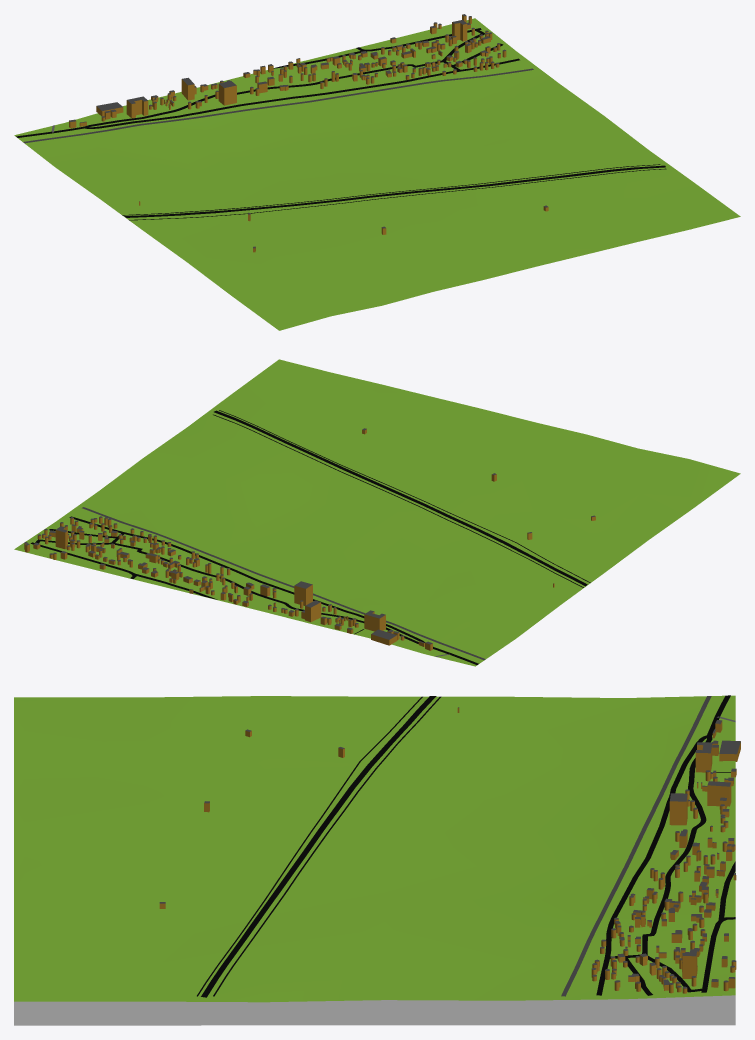
Rendered from tile_11_02.glb.
3 views of the same model, one above another, from view 1: azimuth 30°, elevation 25°; view 2: azimuth 150°, elevation 25°; view 3: azimuth 270°, elevation 25° (orthographic). The views are drawn at different scales.
Visible parts, largest first — view 1: Terrain_11_02, Ub_small.osm_buildings_11_02, Ub_small.osm_roads_residential_11_02, Ub_small.osm_roads_secondary_11_02, Ub_small.osm_railways_11_02, Ub_small.osm_paths_cycleway_11_02, Ub_small.osm_paths_footway_11_02; view 2: Terrain_11_02, Ub_small.osm_buildings_11_02, Ub_small.osm_roads_residential_11_02, Ub_small.osm_roads_secondary_11_02, Ub_small.osm_railways_11_02, Ub_small.osm_paths_cycleway_11_02, Ub_small.osm_paths_footway_11_02; view 3: Terrain_11_02, Ub_small.osm_buildings_11_02, Ub_small.osm_roads_residential_11_02, Ub_small.osm_roads_secondary_11_02, Ub_small.osm_railways_11_02, Ub_small.osm_paths_cycleway_11_02, Ub_small.osm_paths_footway_11_02.
Part boxes in pixels (x1=…): Terrain_11_02: x1=14, y1=18, x2=740, y2=330; Ub_small.osm_buildings_11_02: x1=69, y1=14, x2=548, y2=252; Ub_small.osm_roads_residential_11_02: x1=16, y1=28, x2=519, y2=137; Ub_small.osm_roads_secondary_11_02: x1=124, y1=165, x2=665, y2=217; Ub_small.osm_railways_11_02: x1=23, y1=68, x2=533, y2=143; Ub_small.osm_paths_cycleway_11_02: x1=122, y1=164, x2=660, y2=215; Ub_small.osm_paths_footway_11_02: x1=129, y1=168, x2=666, y2=220; Terrain_11_02: x1=14, y1=359, x2=740, y2=666; Ub_small.osm_buildings_11_02: x1=24, y1=428, x2=595, y2=650; Ub_small.osm_roads_residential_11_02: x1=30, y1=516, x2=478, y2=664; Ub_small.osm_roads_secondary_11_02: x1=214, y1=410, x2=587, y2=586; Ub_small.osm_railways_11_02: x1=82, y1=507, x2=485, y2=660; Ub_small.osm_paths_cycleway_11_02: x1=213, y1=414, x2=583, y2=587; Ub_small.osm_paths_footway_11_02: x1=219, y1=410, x2=590, y2=634; Terrain_11_02: x1=14, y1=695, x2=735, y2=1025; Ub_small.osm_buildings_11_02: x1=159, y1=707, x2=740, y2=993; Ub_small.osm_roads_residential_11_02: x1=596, y1=695, x2=735, y2=995; Ub_small.osm_roads_secondary_11_02: x1=201, y1=696, x2=436, y2=997; Ub_small.osm_railways_11_02: x1=561, y1=696, x2=711, y2=996; Ub_small.osm_paths_cycleway_11_02: x1=213, y1=696, x2=441, y2=996; Ub_small.osm_paths_footway_11_02: x1=197, y1=696, x2=730, y2=996.
Size of the model in its own units: 934 by 72.66 by 937.
